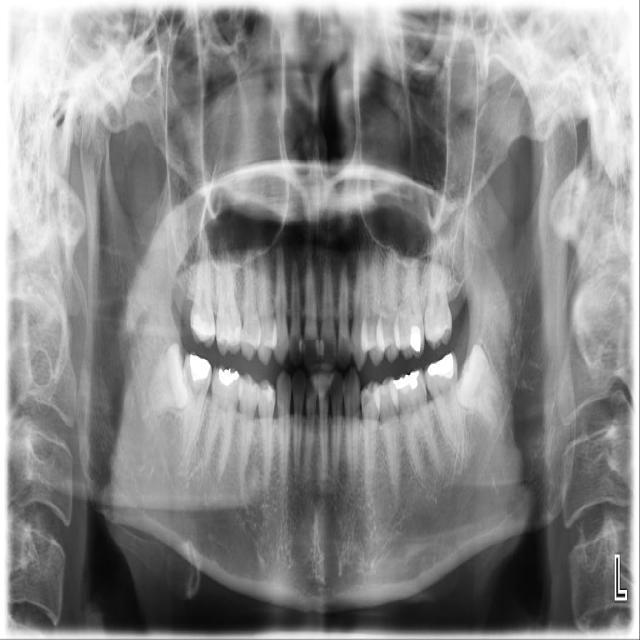Filling: (427, 353, 455, 377), (189, 354, 210, 380), (405, 324, 423, 353), (395, 371, 423, 389), (193, 313, 213, 338), (217, 370, 238, 386)
impacted tooth: (458, 342, 509, 437), (144, 342, 189, 422)
